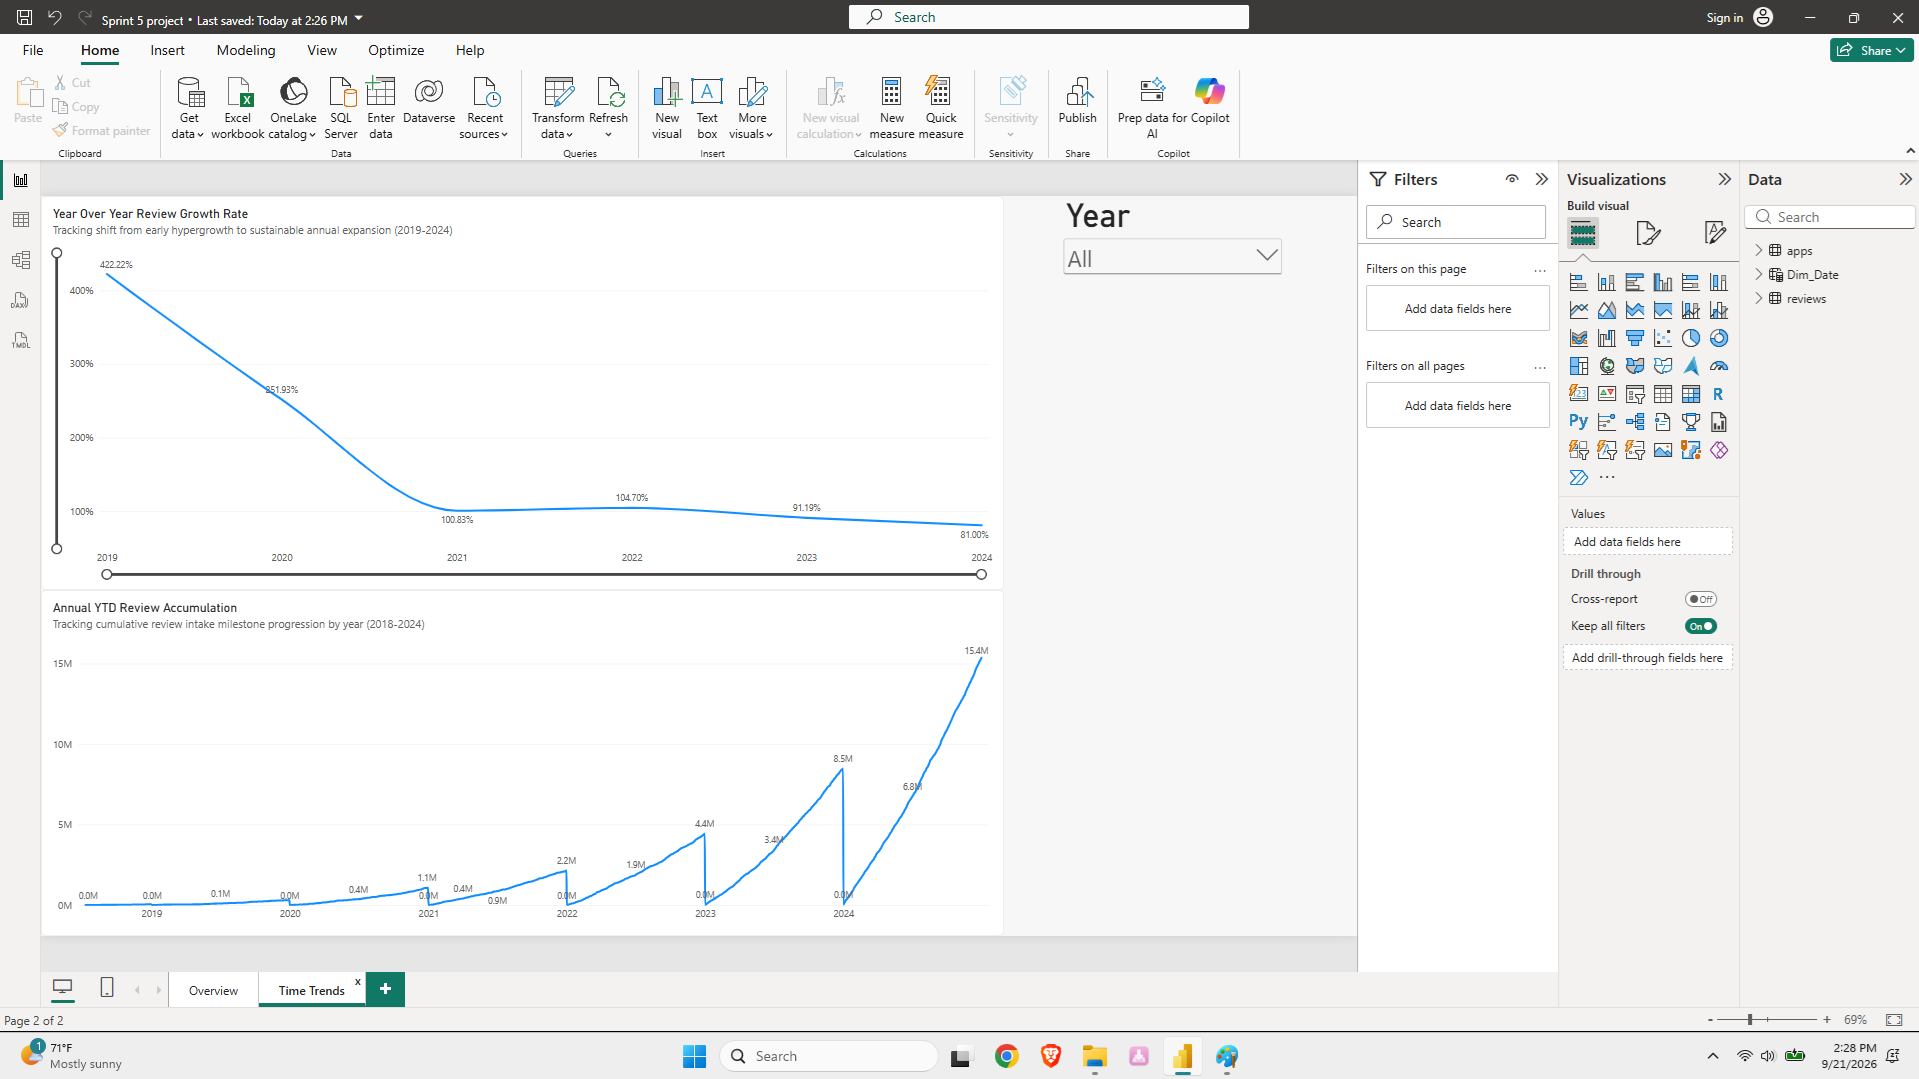

The page's visual inventory and layout, read from the dashboard file:
{"tool":"powerbi","page":{"name":"Time Trends","canvas":[1920,1080],"ordinal":1},"visuals":[{"type":"slicer","fields":{"Values":["Dim_Date.Year"]},"box":[1486.7,0,329.3,123.3],"z":1},{"type":"lineChart","title":"Annual YTD Review Accumulation","fields":{"Category":["Dim_Date.Date.Variation.Date Hierarchy.Year","Dim_Date.Date.Variation.Date Hierarchy.Quarter","Dim_Date.Date.Variation.Date Hierarchy.Month","Dim_Date.Date.Variation.Date Hierarchy.Day"],"Y":["reviews.Quantity YTD"]},"box":[0,574.8,1405,504.8],"z":2},{"type":"lineChart","title":"Year Over Year Review Growth Rate","fields":{"Category":["Dim_Date.Date.Variation.Date Hierarchy.Year"],"Y":["reviews.YoY Quantity Growth %"]},"box":[0,0,1405,574.8],"z":3}]}

Visuals, with their boxes on the page's 1920x1080 design canvas (x1, y1, x2, y2). These are canvas units, not pixel positions in the 1919x1079 screenshot, which may show the page scaled, cropped or inside an application window:
slicer - Dim_Date.Year: box=[1487, 0, 1816, 123]
"Annual YTD Review Accumulation" lineChart: box=[0, 575, 1405, 1080]
"Year Over Year Review Growth Rate" lineChart: box=[0, 0, 1405, 575]
